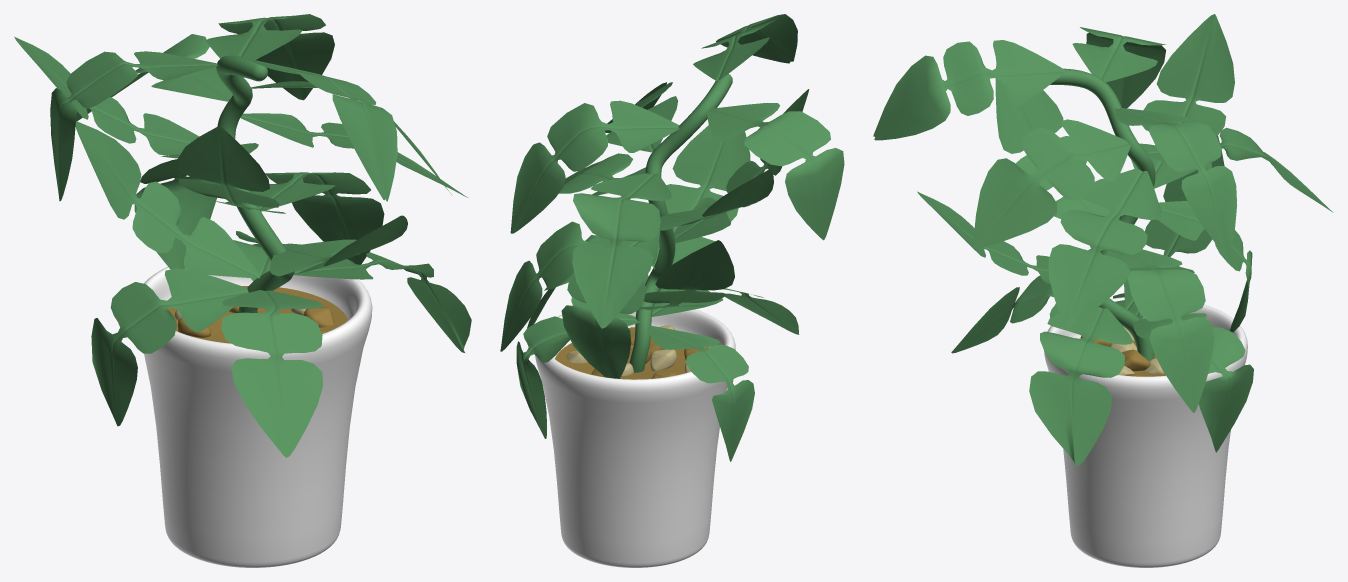
The model's file is plant1.glb.
3 renders of one model, left to right at view 1: azimuth 30°, elevation 25°; view 2: azimuth 150°, elevation 25°; view 3: azimuth 270°, elevation 25°, orthographic. The views are drawn at different scales.
Parts seen in each view (by area): view 1: r.0005, s.0025, s.0024, s.0026, s.0022, s.0027, s.0050, s.0019, s.0014, s.0016, s.0020, s.0017 (+7 smaller); view 2: r.0005, s.0047, s.0022, s.0050, s.0024, s.0018, s.0030, s.0016, s.0027, s.0026, s.0014, s.0023 (+7 smaller); view 3: r.0005, s.0021, s.0014, s.0028, s.0017, s.0027, s.0050, s.0020, s.0023, s.0022, s.0019, s.0016 (+5 smaller).
Part boxes in pixels (bbox=[...]): r.0005: bbox=[144, 266, 372, 567]; s.0025: bbox=[221, 290, 323, 457]; s.0024: bbox=[91, 268, 248, 426]; s.0026: bbox=[75, 121, 260, 278]; s.0022: bbox=[50, 51, 218, 201]; s.0027: bbox=[250, 172, 384, 264]; s.0050: bbox=[206, 14, 334, 100]; s.0019: bbox=[177, 126, 285, 213]; s.0014: bbox=[248, 59, 397, 201]; s.0016: bbox=[216, 55, 294, 312]; s.0020: bbox=[14, 36, 198, 155]; s.0017: bbox=[293, 252, 471, 352]; r.0005: bbox=[535, 309, 735, 567]; s.0047: bbox=[572, 173, 671, 328]; s.0022: bbox=[707, 103, 844, 240]; s.0050: bbox=[510, 100, 679, 233]; s.0024: bbox=[647, 325, 754, 461]; s.0018: bbox=[652, 125, 750, 269]; s.0030: bbox=[561, 230, 660, 378]; s.0016: bbox=[629, 74, 732, 372]; s.0027: bbox=[500, 221, 659, 351]; s.0026: bbox=[639, 240, 734, 309]; s.0014: bbox=[693, 14, 797, 80]; s.0023: bbox=[516, 297, 640, 438]; r.0005: bbox=[1044, 297, 1247, 567]; s.0021: bbox=[973, 119, 1130, 248]; s.0014: bbox=[873, 40, 1064, 140]; s.0028: bbox=[1048, 168, 1161, 327]; s.0017: bbox=[1029, 307, 1132, 465]; s.0027: bbox=[1106, 249, 1214, 412]; s.0050: bbox=[1115, 108, 1237, 259]; s.0020: bbox=[1131, 14, 1234, 188]; s.0023: bbox=[1132, 313, 1253, 452]; s.0022: bbox=[1072, 27, 1165, 108]; s.0019: bbox=[995, 64, 1110, 218]; s.0016: bbox=[1050, 68, 1155, 361].
Size of the model in its own units: 3.97 by 5.46 by 4.81.
